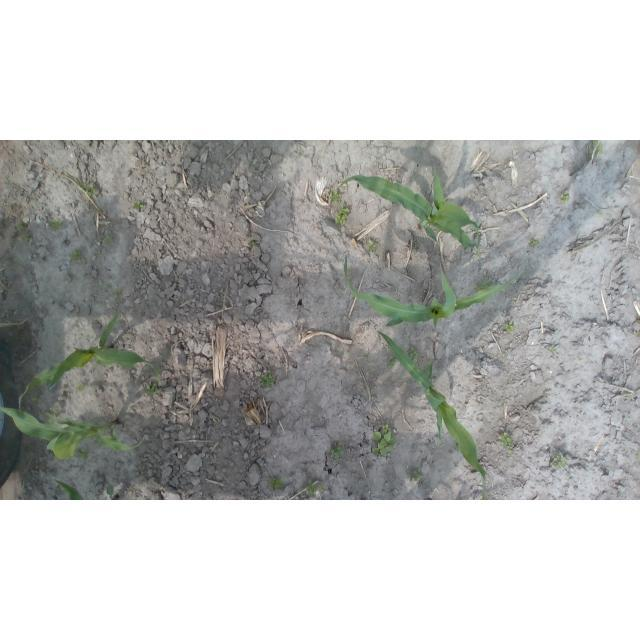Maize: (373, 328, 487, 499), (332, 164, 486, 267), (18, 310, 161, 416), (344, 253, 528, 327), (0, 405, 148, 464), (48, 477, 84, 500)
Weeds: (371, 426, 396, 457), (305, 481, 326, 500), (587, 140, 603, 160), (18, 221, 31, 242), (550, 454, 566, 470), (408, 345, 420, 365), (336, 206, 349, 224), (85, 180, 99, 196), (144, 382, 158, 397), (500, 432, 513, 448), (99, 232, 113, 246), (260, 374, 273, 387), (331, 444, 342, 458), (270, 479, 283, 490), (49, 220, 63, 230), (69, 251, 83, 261), (413, 470, 424, 482), (132, 201, 144, 211), (562, 190, 571, 203), (368, 238, 376, 251), (505, 321, 515, 331), (390, 356, 399, 367), (77, 384, 86, 393), (330, 194, 339, 203), (549, 346, 557, 354), (530, 240, 537, 246)
